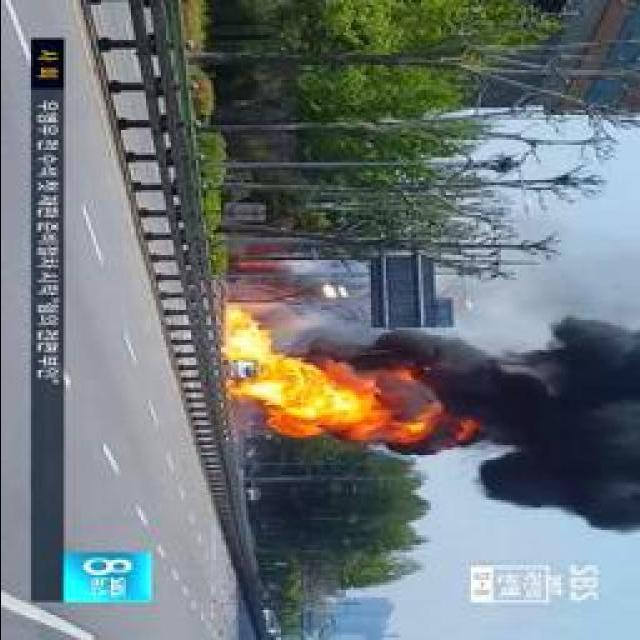Fire: (260, 368, 366, 438), (228, 306, 264, 364), (232, 374, 253, 402)
